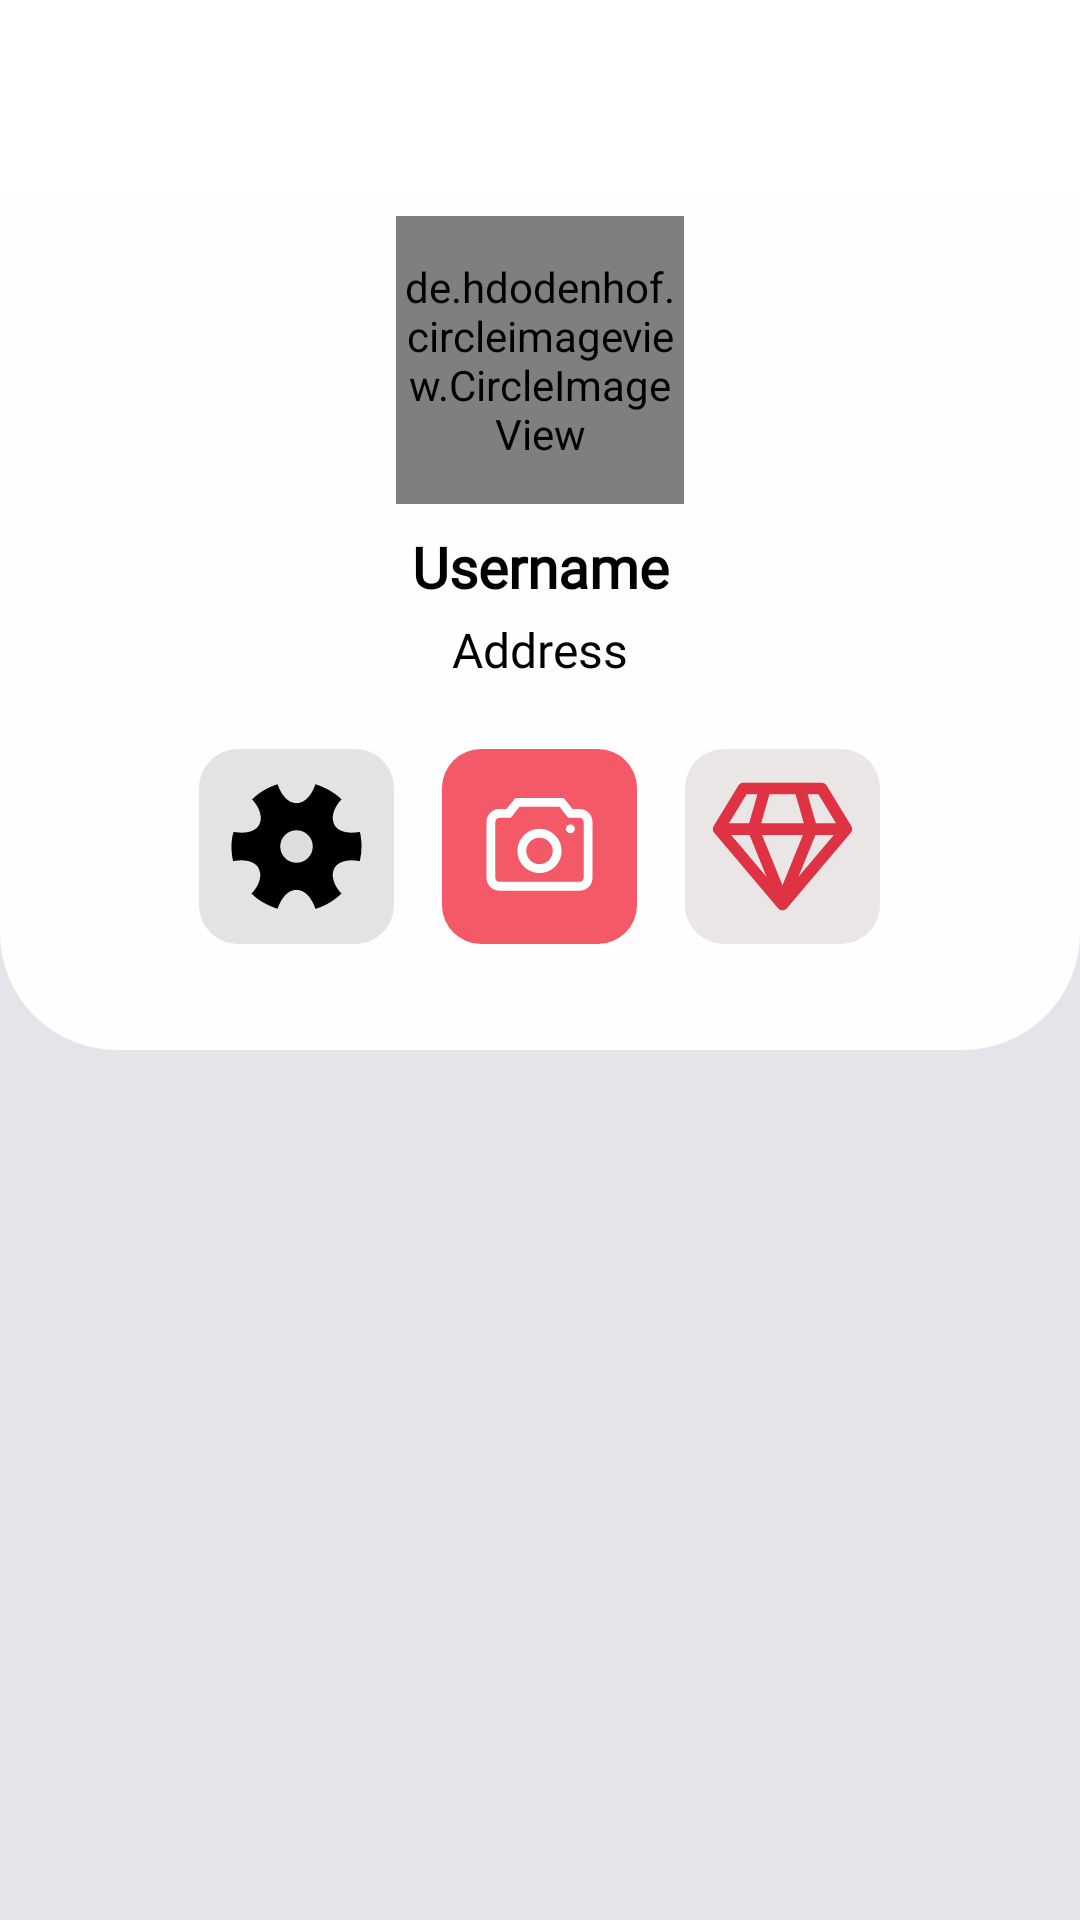

Screen size 1080x1920. Icon name, then its box in pixels as (x1, y1, x2, y2):
camera: (442, 749, 637, 944)
premium: (685, 749, 880, 944)
settings: (199, 749, 394, 944)
